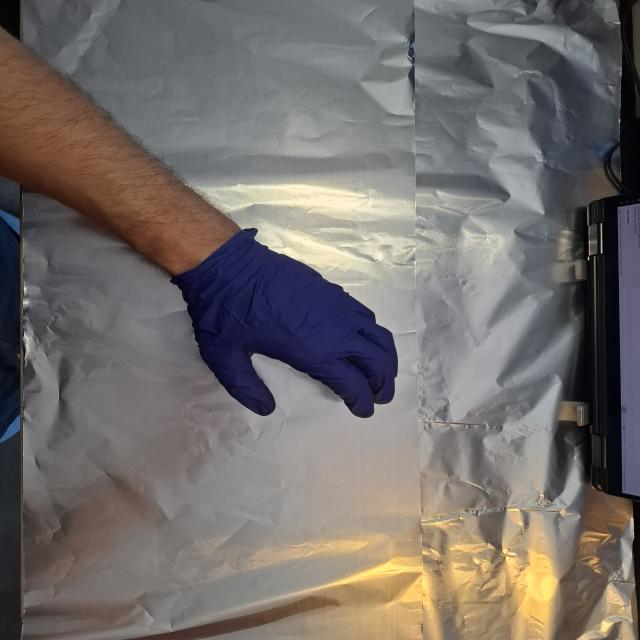glove_on: (173, 228, 401, 421)
